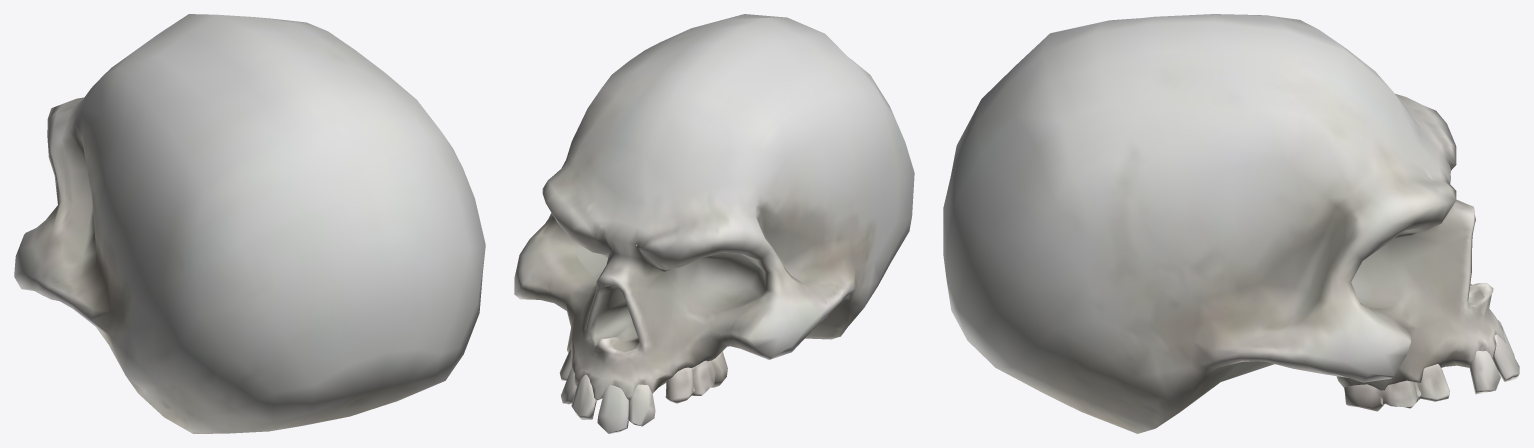
The picture shows the model from 3 angles, left to right: view 1: azimuth 30°, elevation 25°; view 2: azimuth 150°, elevation 25°; view 3: azimuth 270°, elevation 25°; orthographic projection. The views are drawn at different scales.
Parts seen in each view (by area): view 1: SM_Skull_02_LOD0; view 2: SM_Skull_02_LOD0; view 3: SM_Skull_02_LOD0.
Boxes of the visible parts, x1=… form: SM_Skull_02_LOD0: x1=14, y1=14, x2=485, y2=433; SM_Skull_02_LOD0: x1=514, y1=14, x2=914, y2=433; SM_Skull_02_LOD0: x1=943, y1=14, x2=1519, y2=433.
Bounding box in the file's own units: 0.1657 × 0.1619 × 0.2311.
1 material, 1 textured.
